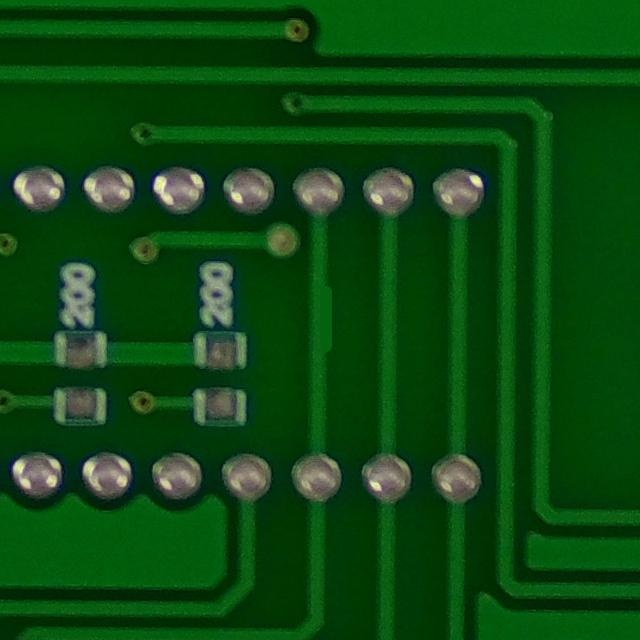spur: (296, 281, 344, 359)
